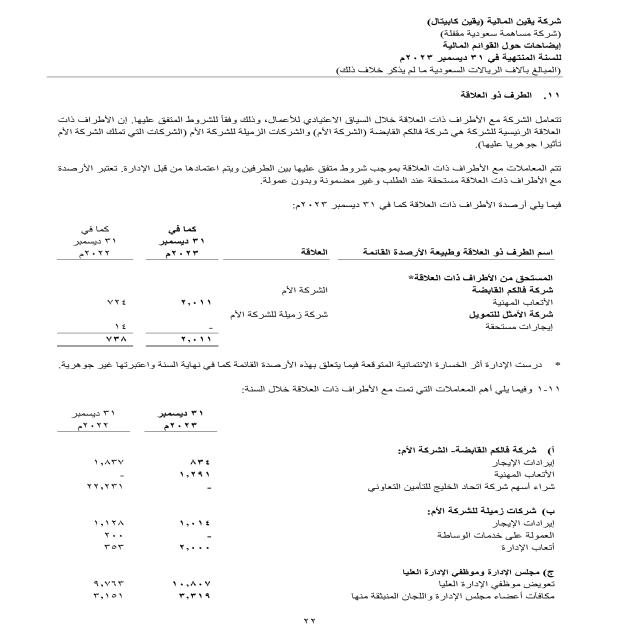notes: (428, 42, 566, 54)
table: (26, 402, 573, 607), (30, 222, 568, 348)
